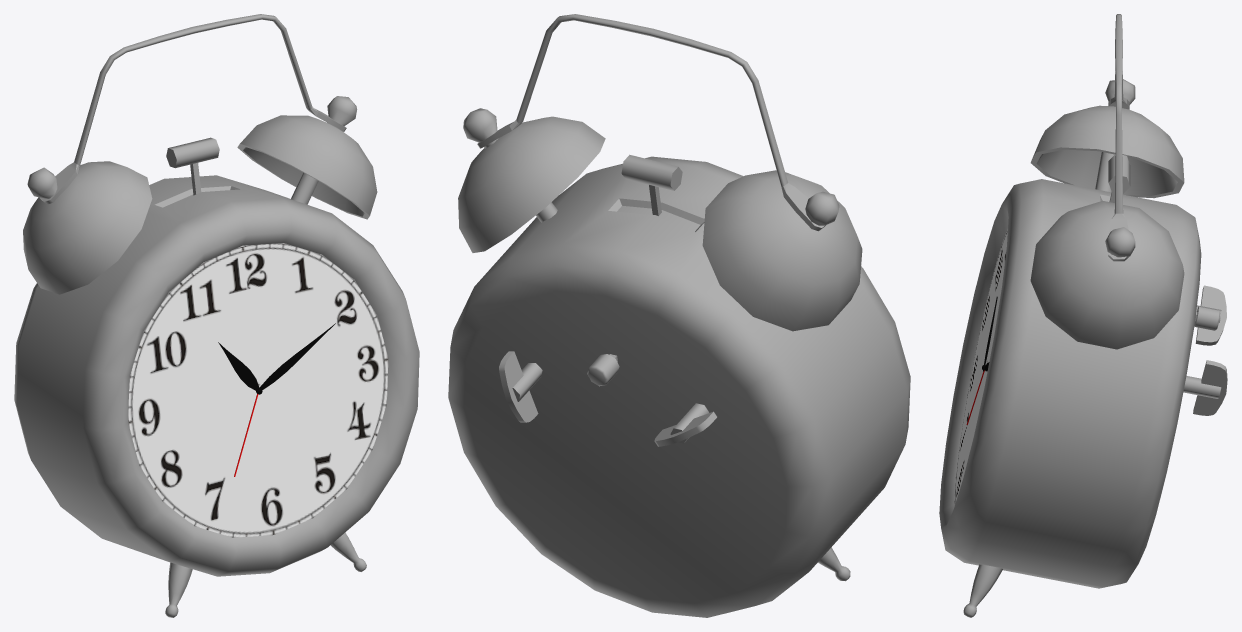
The model's file is mH_ClassicAlarmClock.fbx.
3 views of the same model, side by side, from view 1: azimuth 30°, elevation 25°; view 2: azimuth 150°, elevation 25°; view 3: azimuth 270°, elevation 25° (orthographic). The views are drawn at different scales.
Visible parts, largest first — view 1: mH_ClassicAlarmClock, mH_ClassicAlarmClock_Hammer, mH_ClassicAlarmClock_Handle_Min; view 2: mH_ClassicAlarmClock, mH_ClassicAlarmClock_Hammer; view 3: mH_ClassicAlarmClock, mH_ClassicAlarmClock_Hammer.
Boxes of the visible parts, box(x1,y1,x2,y2) form: mH_ClassicAlarmClock: box(14, 14, 419, 617); mH_ClassicAlarmClock_Hammer: box(166, 137, 219, 195); mH_ClassicAlarmClock_Handle_Min: box(260, 323, 335, 389); mH_ClassicAlarmClock: box(448, 14, 910, 617); mH_ClassicAlarmClock_Hammer: box(621, 154, 682, 215); mH_ClassicAlarmClock: box(939, 14, 1227, 617); mH_ClassicAlarmClock_Hammer: box(1108, 154, 1130, 202).
Bounding box in the file's own units: 20 × 29.42 × 14.63.
